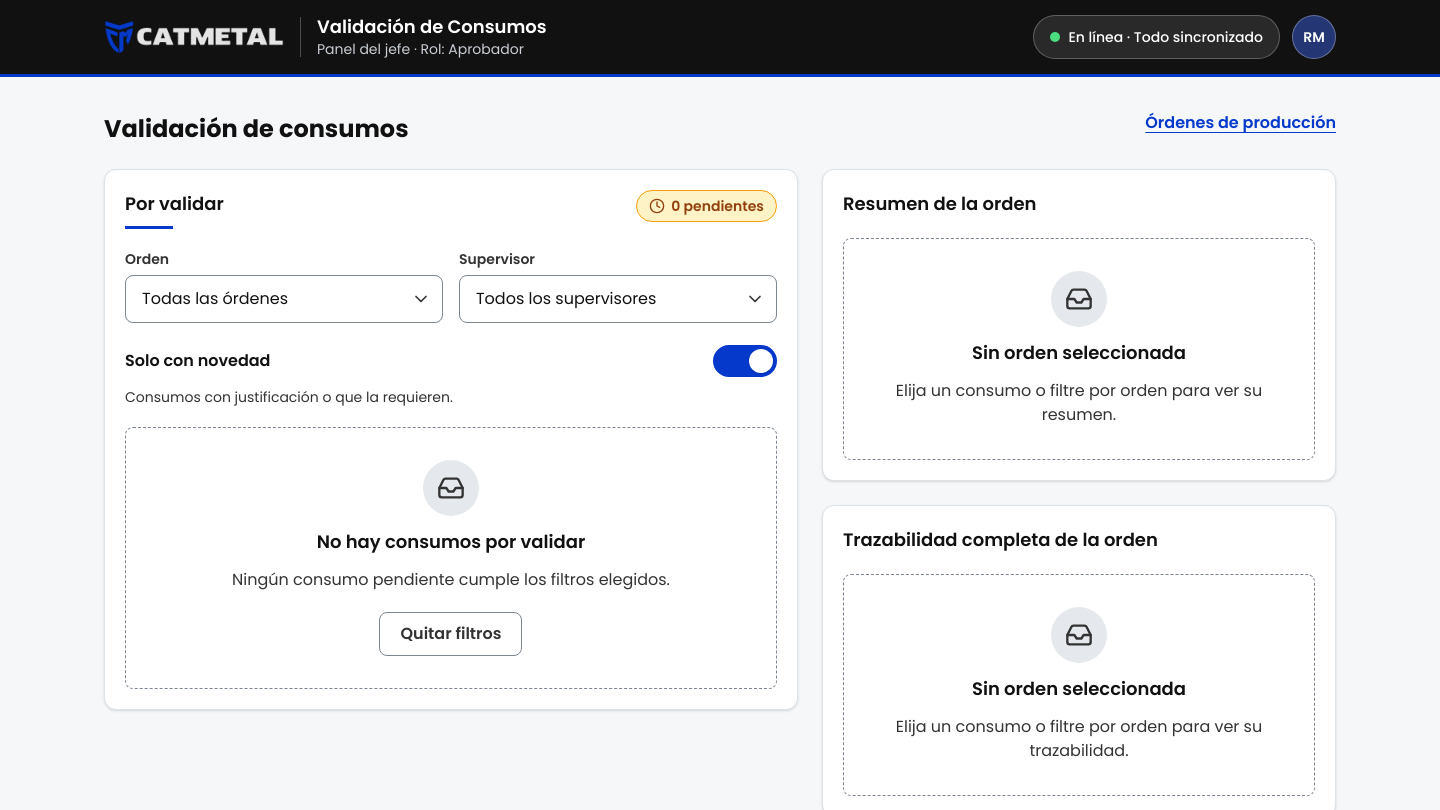
Test case: estados vacíos (tarea 6.2) › sin consumos que cumplan los filtros, "Quitar filtros" vuelve a la cola completa
Check: the text "Ningún consumo pendiente cumple los filtros elegidos." is shown, box [232,568,670,592]
Step 1. Click the button "Quitar filtros" → (451, 634), box [380,612,522,656]
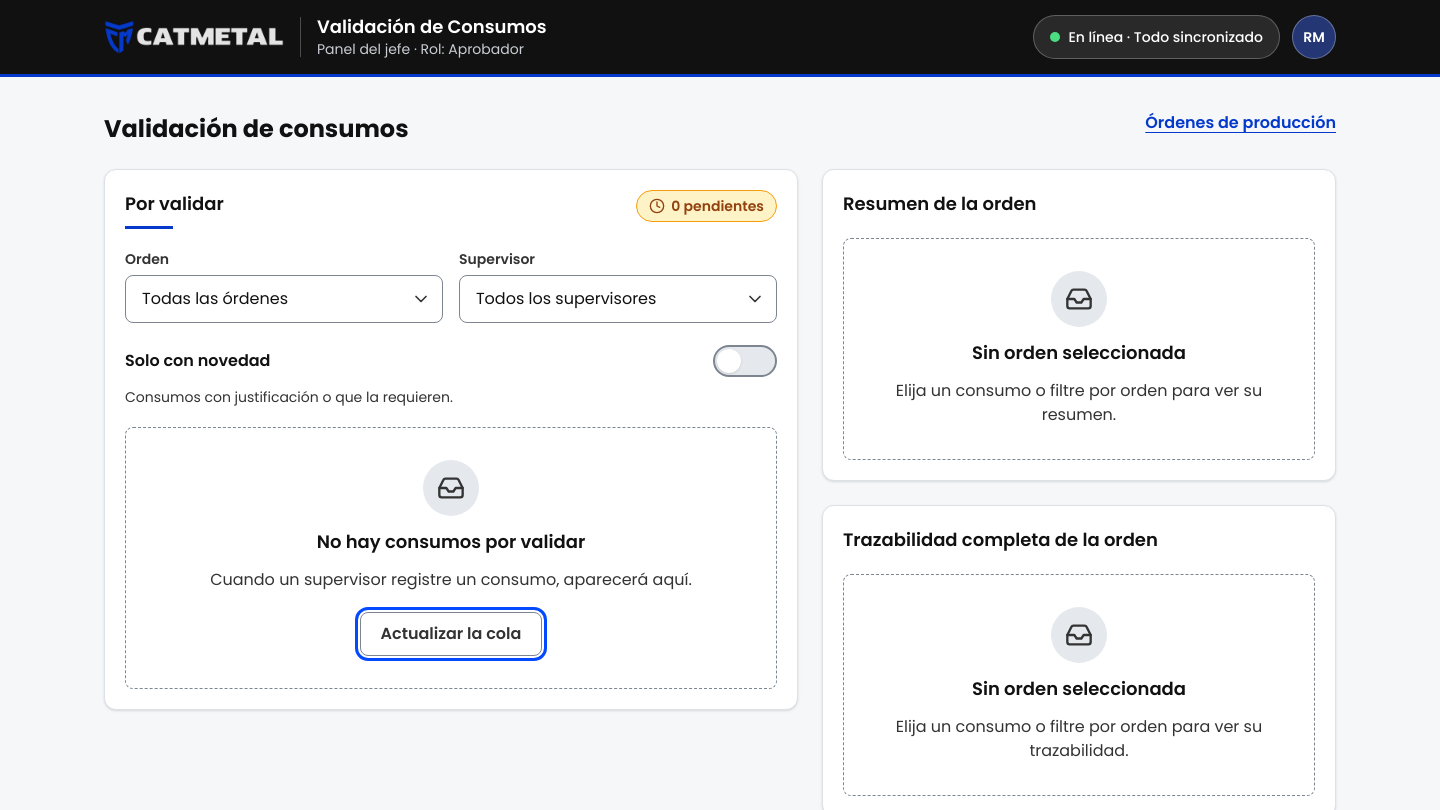
Check: the text "Cuando un supervisor registre un consumo, aparecerá aquí." is shown, box [210,568,692,592]
Check: the button "Actualizar la cola" is shown, box [360,612,542,656]
